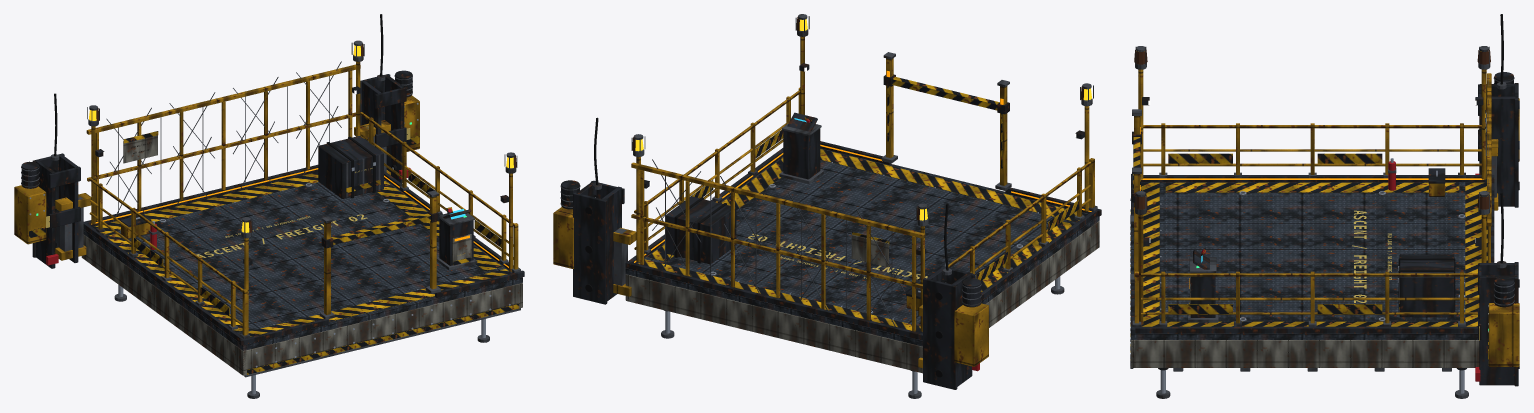
Rendered from end2-lift.glb.
3 renders of one model, left to right at view 1: azimuth 30°, elevation 25°; view 2: azimuth 150°, elevation 25°; view 3: azimuth 270°, elevation 25°, orthographic. The views are drawn at different scales.
Visible parts, largest first — view 1: deck_plate, skirt_front, skirt_side, crate_body, hz_back, hz_front, drive_box, fence_top, skirt_hazard, kick_back, kick_side, hz_left (+27 smaller); view 2: deck_plate, skirt_back, yoke_back.001, yoke_back, skirt_side, crate_body, hz_front, kick_back, drive_box, fence_top, hz_back, ped_base (+18 smaller); view 3: deck_plate, skirt_side.001, crate_body, hz_left, kick_side.001, yoke_cheek.001, hz_front, hz_back, kick_side, drive_box.001, yoke_cheek.003, hz_right (+22 smaller).
Part boxes in pixels (<box>): deck_plate: <box>83,171,522,350</box>; skirt_front: <box>241,283,522,375</box>; skirt_side: <box>83,234,246,375</box>; crate_body: <box>318,136,383,198</box>; hz_back: <box>93,172,318,234</box>; hz_front: <box>239,269,511,336</box>; drive_box: <box>14,185,46,244</box>; fence_top: <box>86,64,360,134</box>; skirt_hazard: <box>247,303,519,374</box>; kick_back: <box>83,164,318,226</box>; kick_side: <box>83,222,245,344</box>; hz_left: <box>105,234,249,331</box>; deck_plate: <box>625,148,1099,346</box>; skirt_back: <box>629,275,922,373</box>; yoke_back.001: <box>573,192,607,304</box>; yoke_back: <box>923,278,957,389</box>; skirt_side: <box>922,222,1097,371</box>; crate_body: <box>666,196,736,264</box>; hz_front: <box>820,149,1087,222</box>; kick_back: <box>626,261,922,340</box>; drive_box: <box>954,303,988,366</box>; fence_top: <box>631,162,925,238</box>; hz_back: <box>638,259,922,333</box>; ped_base: <box>783,128,820,179</box>; deck_plate: <box>1131,182,1486,339</box>; skirt_side.001: <box>1131,340,1479,367</box>; crate_body: <box>1399,254,1454,317</box>; hz_left: <box>1165,182,1459,192</box>; kick_side.001: <box>1134,326,1477,333</box>; yoke_cheek.001: <box>1479,96,1515,206</box>; hz_front: <box>1140,182,1159,326</box>; hz_back: <box>1465,182,1487,326</box>; kick_side: <box>1131,175,1494,182</box>; drive_box.001: <box>1488,303,1519,366</box>; yoke_cheek.003: <box>1479,275,1517,385</box>; hz_right: <box>1167,321,1457,326</box>.
Bounding box in the file's own units: 10.24 × 5.08 × 7.82.
18 materials, 6 textured.
